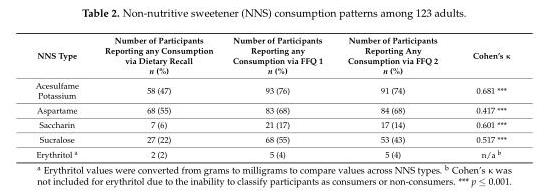table: (34, 34, 509, 159)
table column: (90, 34, 222, 159), (334, 34, 454, 159), (222, 34, 334, 159), (34, 34, 90, 159), (454, 34, 509, 159)
table column header: (34, 34, 509, 77)
table row: (34, 34, 509, 77), (34, 77, 509, 102), (34, 102, 509, 117), (34, 117, 509, 131), (34, 131, 509, 145), (34, 145, 509, 159)
